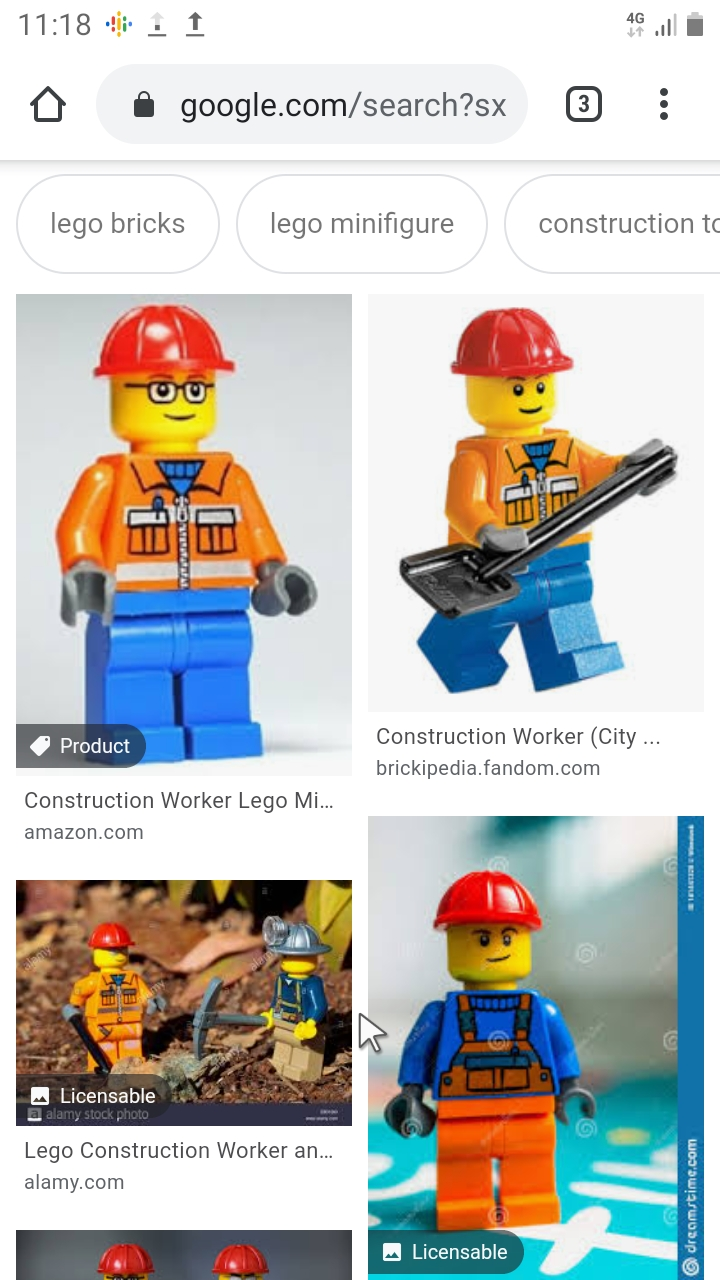pedestrian: (35, 302, 339, 735), (384, 302, 684, 700), (378, 815, 615, 1241), (247, 904, 333, 1088), (61, 919, 153, 1068)
